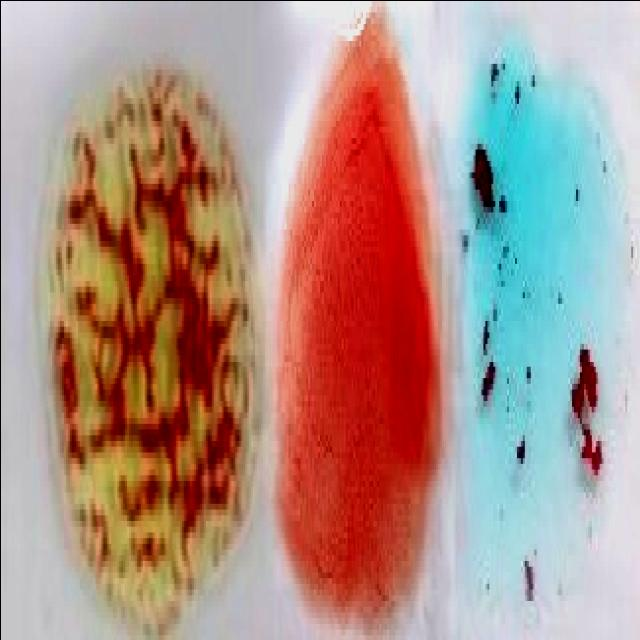A: (461, 46, 616, 624)
B: (50, 67, 252, 610)
D: (284, 32, 430, 630)
